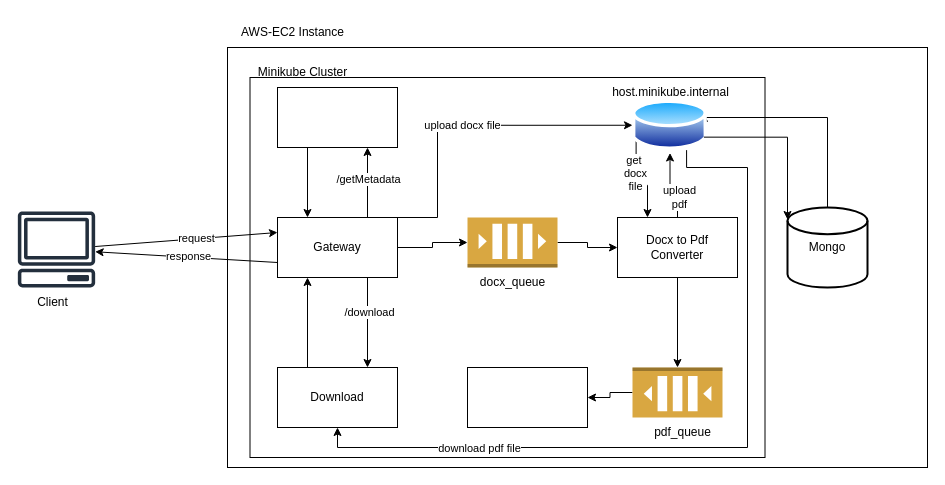
The diagram is 945 pixels wide and 485 high, and some of its shapes have lost their labels. The centre of each missing label's shape, as x and y in pixels:
Metadata: (x=337, y=117)
Notification: (x=527, y=397)
